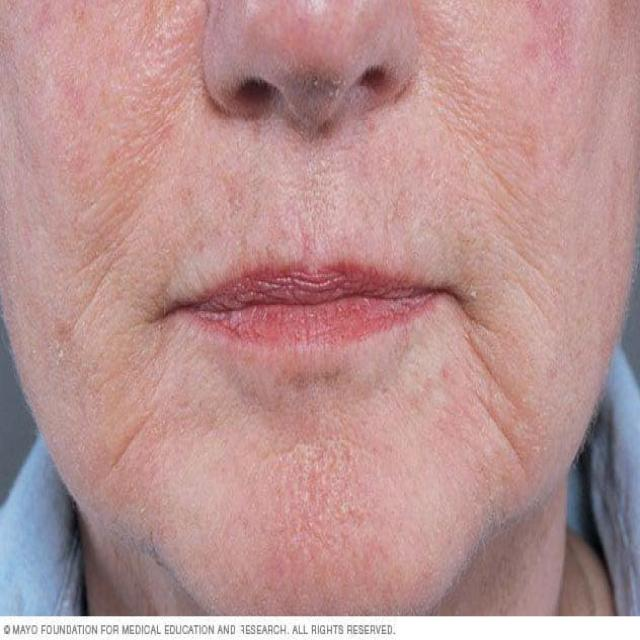Acne: (520, 2, 574, 97)
Wrinkles: (455, 346, 530, 484), (464, 334, 526, 419), (110, 399, 161, 474)
